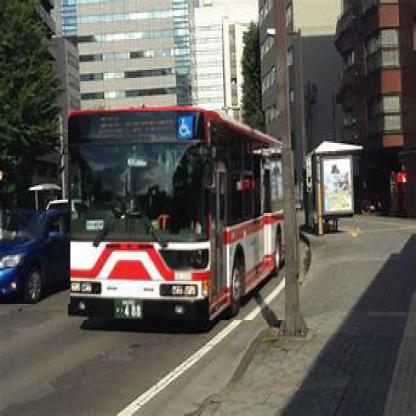bus: (69, 112, 287, 323)
car: (4, 211, 73, 307)
